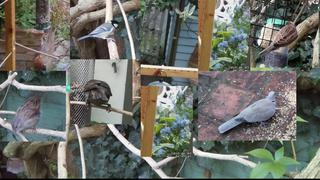collared dove: (218, 91, 276, 134)
dunnock: (11, 91, 46, 136)
great tit: (76, 20, 121, 42)
sparrow: (259, 20, 299, 59)
starling: (84, 79, 112, 113)
